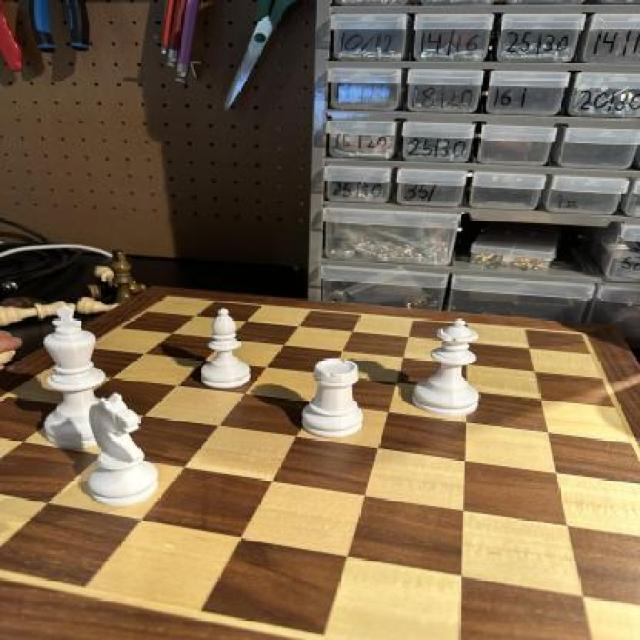black-rook: (189, 308, 258, 390)
white-bishop: (22, 302, 126, 453)
white-king: (63, 389, 170, 511)
white-pawn: (417, 317, 484, 424)
white-queen: (298, 357, 367, 441)
